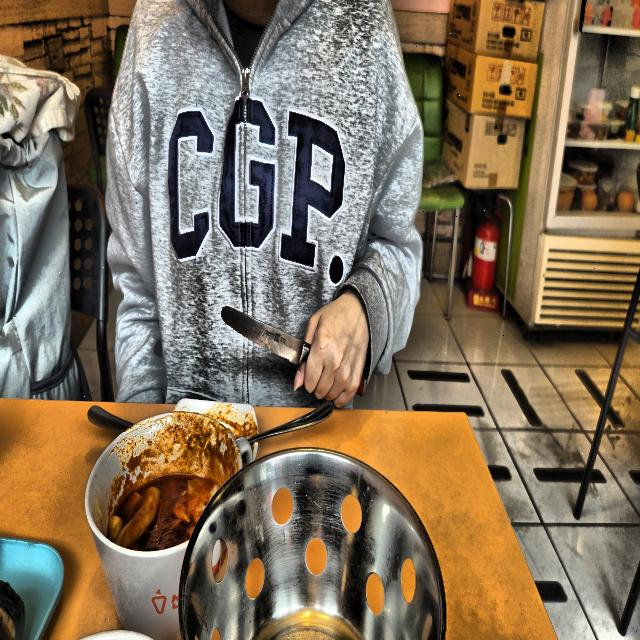knife: (218, 301, 369, 402)
